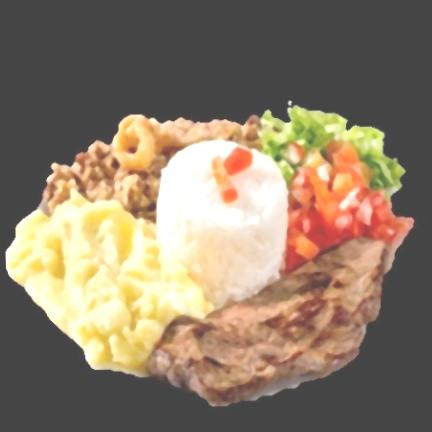beans: (43, 116, 261, 222)
meat: (147, 239, 392, 405)
potato: (6, 191, 212, 375)
rice: (156, 141, 286, 306)
salad: (260, 105, 403, 198)
tomato: (285, 140, 412, 273)
